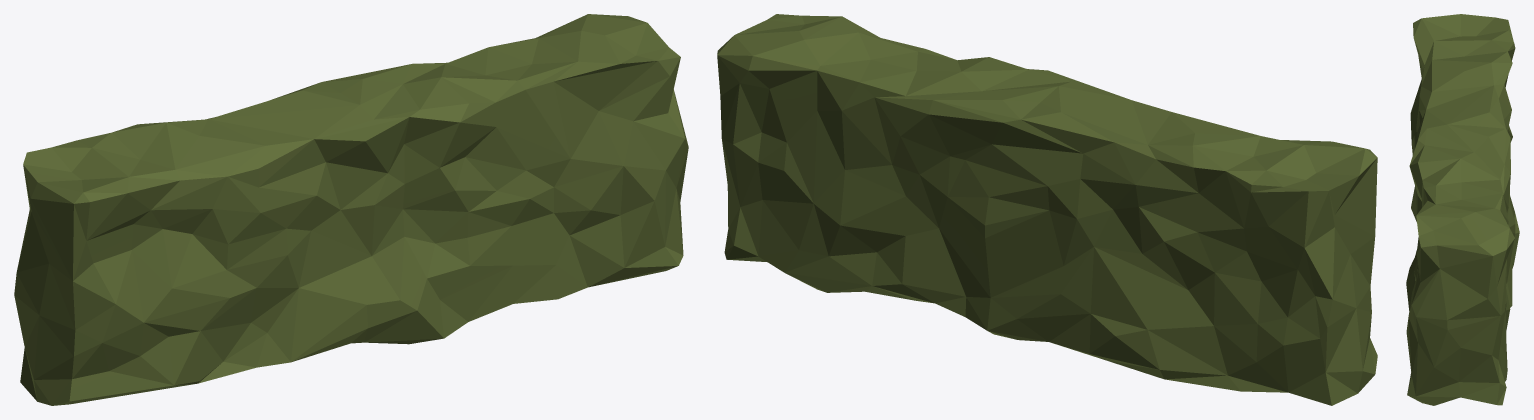
File: SM_Env_Hedge_01.gltf
The picture shows the model from 3 angles, left to right: view 1: azimuth 30°, elevation 25°; view 2: azimuth 150°, elevation 25°; view 3: azimuth 270°, elevation 25°; orthographic projection. The views are drawn at different scales.
Visible parts, largest first — view 1: SM_Env_Hedge_01; view 2: SM_Env_Hedge_01; view 3: SM_Env_Hedge_01.
Boxes of the visible parts, x1,y1,x2,y2 form: SM_Env_Hedge_01: (14, 14, 688, 405); SM_Env_Hedge_01: (717, 14, 1377, 405); SM_Env_Hedge_01: (1406, 14, 1519, 405).
Size of the model in its own units: 5.39 by 1.92 by 1.1.
Materials: 1 (1 with a texture image).
